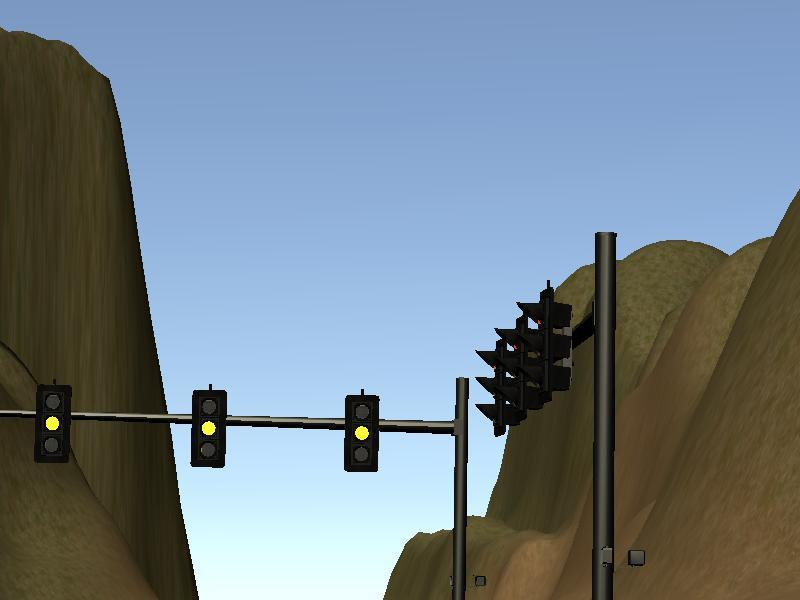Yellow: (35, 385, 72, 464), (342, 394, 379, 473), (190, 390, 227, 469)
